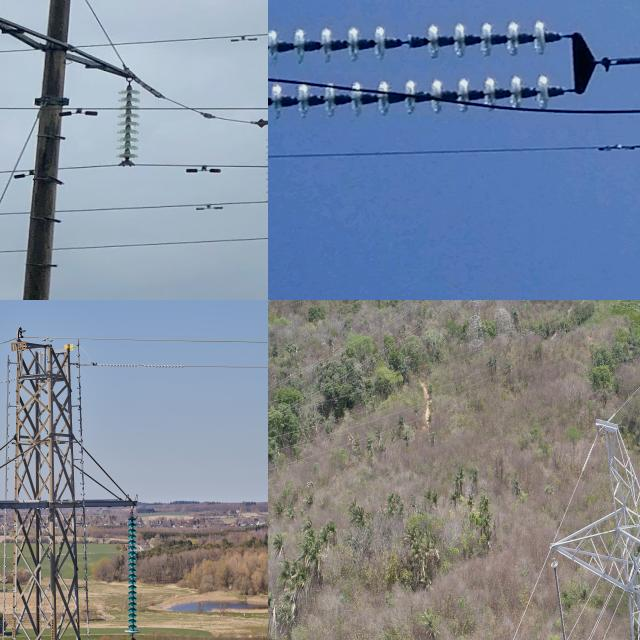杆塔: (0, 330, 168, 640), (461, 300, 488, 352)
正常电缆: (268, 141, 640, 167)
正常绝缘子: (268, 71, 569, 118), (268, 21, 573, 59), (114, 74, 148, 169), (124, 500, 145, 640), (543, 547, 573, 640), (260, 124, 268, 207)
绝缘子破损: (391, 34, 420, 50)
